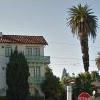Palm tree: (61, 2, 99, 81)
